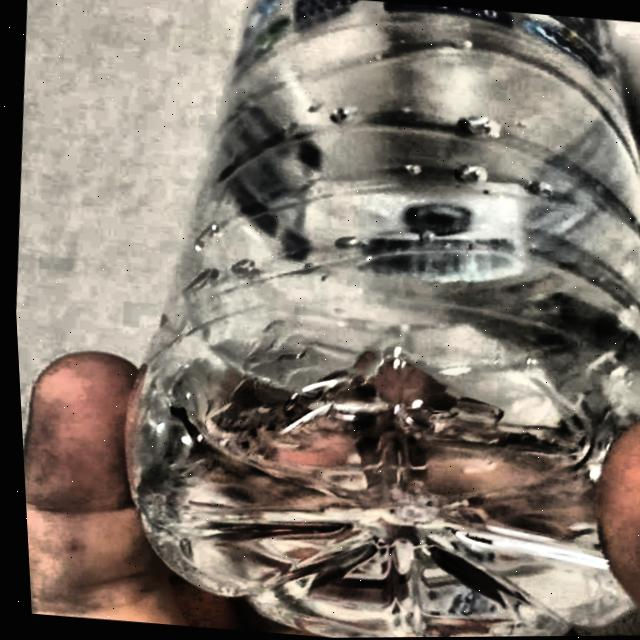plastic: (120, 0, 640, 638)
